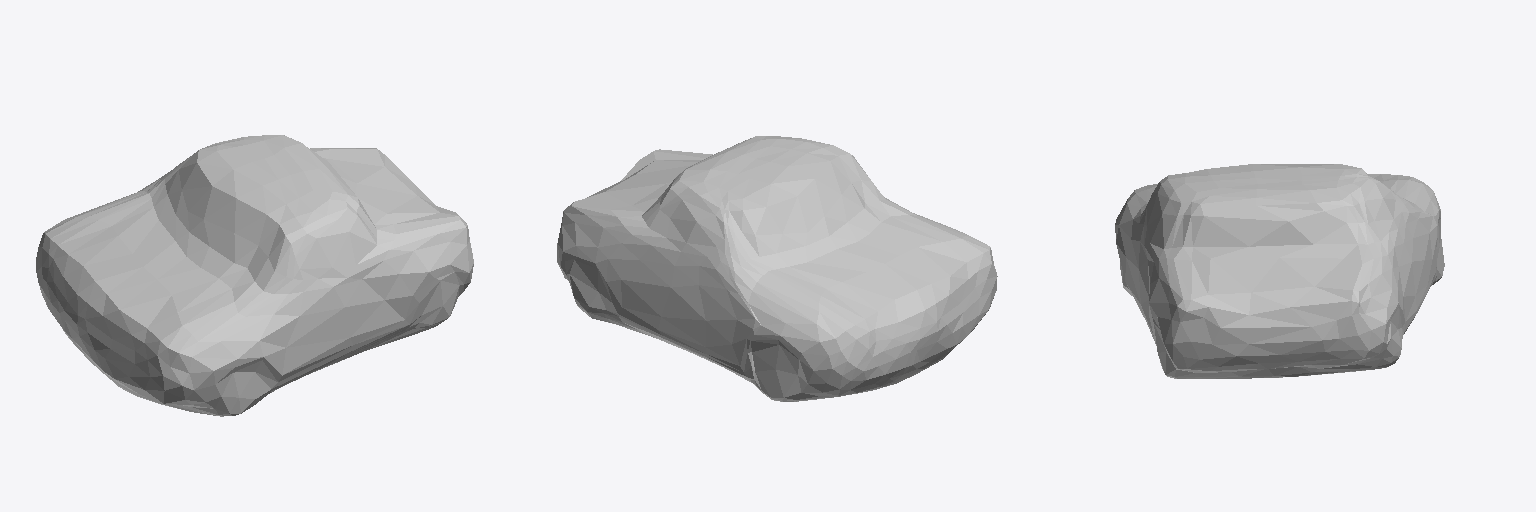
Rendered from video3_47.obj.
3 renders of one model, left to right at view 1: azimuth 30°, elevation 25°; view 2: azimuth 150°, elevation 25°; view 3: azimuth 270°, elevation 25°, orthographic.
Bounding box in the file's own units: 1 × 0.4755 × 0.8183.